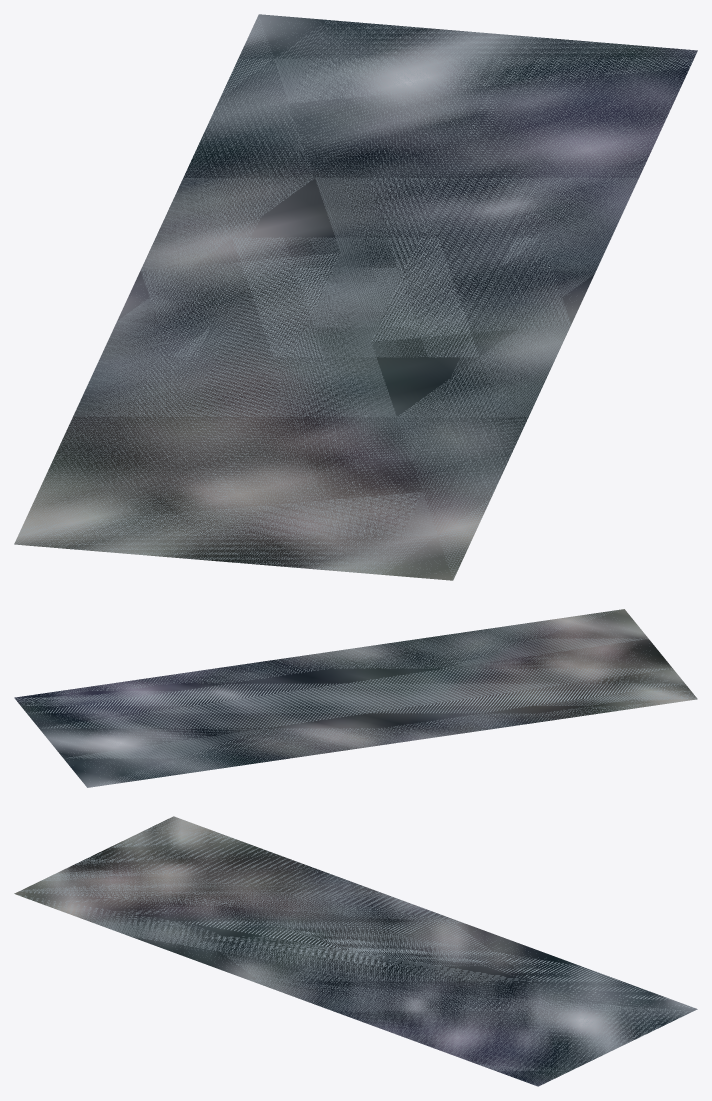
The model's file is 西庸城堡323.dae.
3 renders of one model, top to bottom at view 1: azimuth 30°, elevation 25°; view 2: azimuth 150°, elevation 25°; view 3: azimuth 270°, elevation 25°, orthographic. The views are drawn at different scales.
Visible parts, largest first — view 1: SketchUp; view 2: SketchUp; view 3: SketchUp.
Boxes of the visible parts, x1,y1,x2,y2 form: SketchUp: (14, 14, 697, 580); SketchUp: (14, 609, 697, 787); SketchUp: (14, 816, 697, 1086).
Size of the model in its own units: 72.49 by 77.48 by 0.
